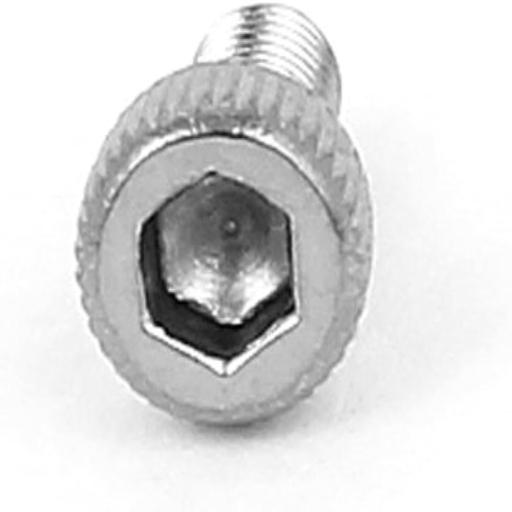Hex-Allen: (79, 62, 375, 426)
